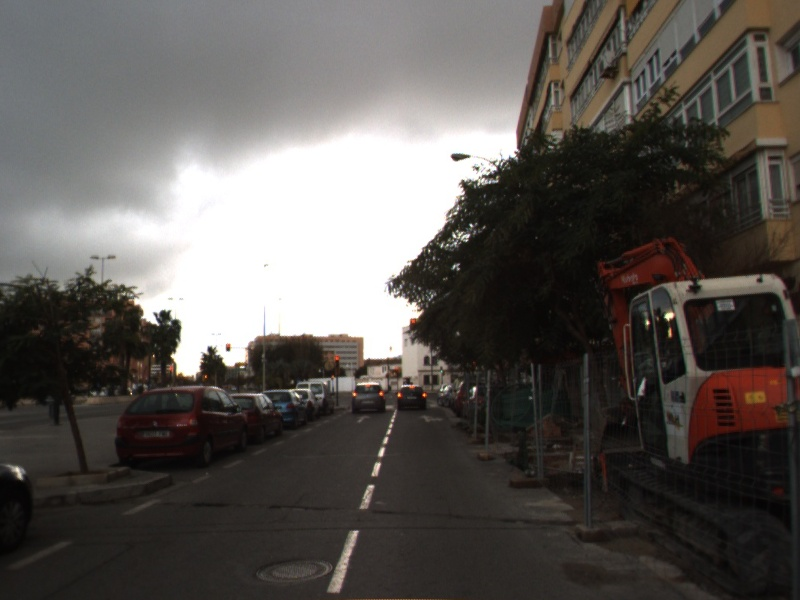STRAIGHT: (354, 413, 373, 424)
STRAIGHT_RIGHT: (416, 412, 446, 424)
